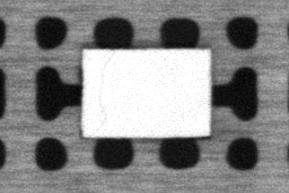DIE_CRACK: (86, 51, 115, 137)
